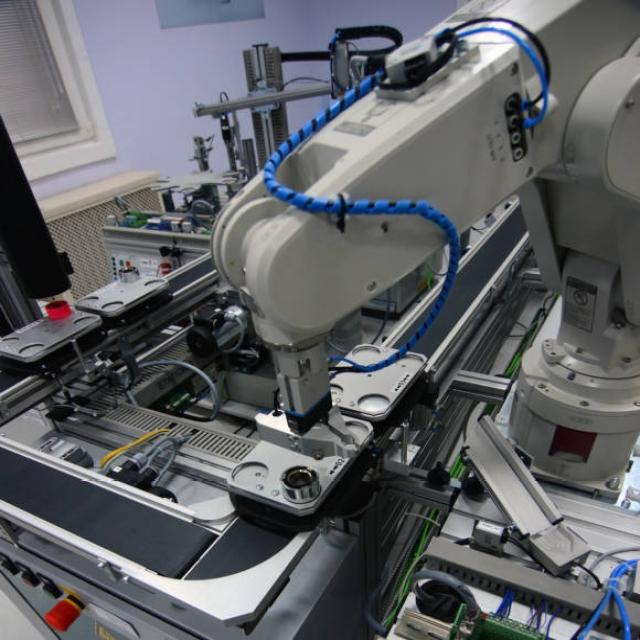Robotic-arm: (205, 0, 640, 493)
